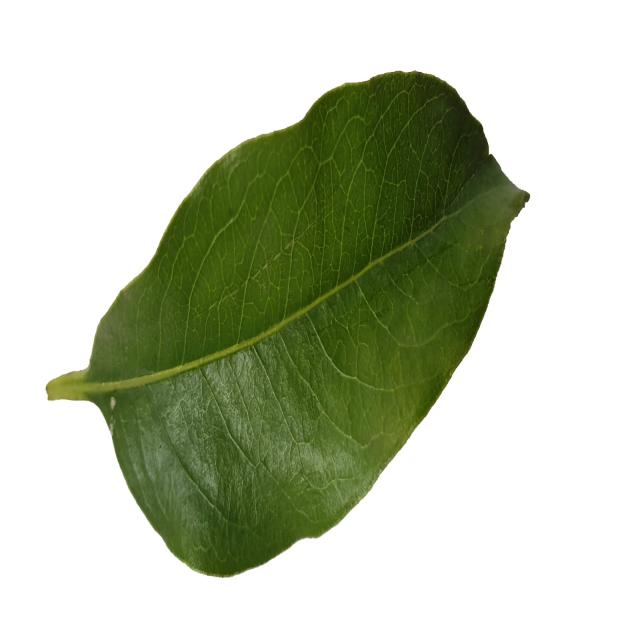Medicinal-Sandalwood: (46, 69, 529, 578)
